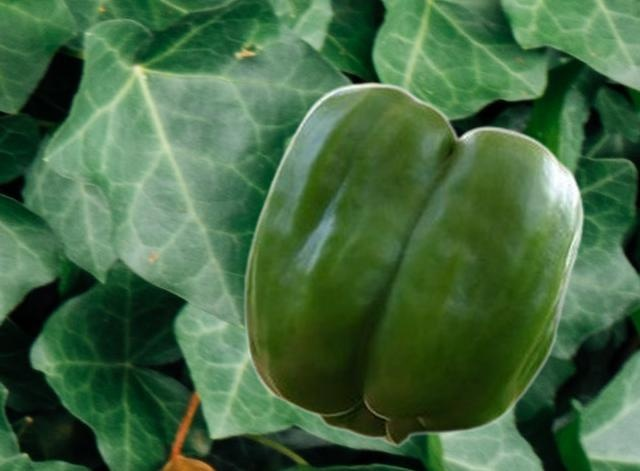bell_pepper: (242, 81, 583, 446)
